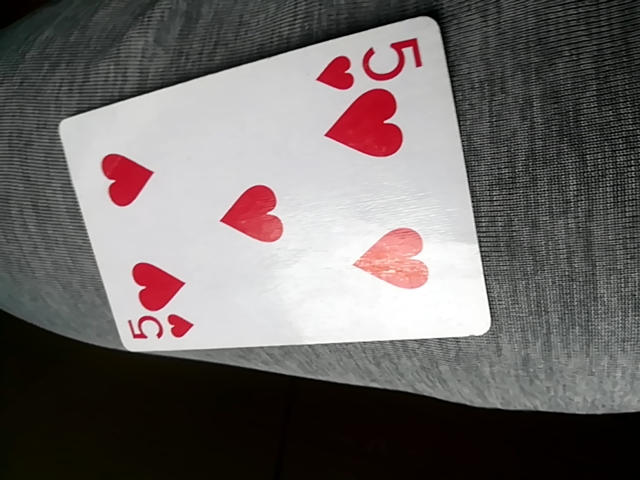hx 5: (58, 16, 493, 358)
